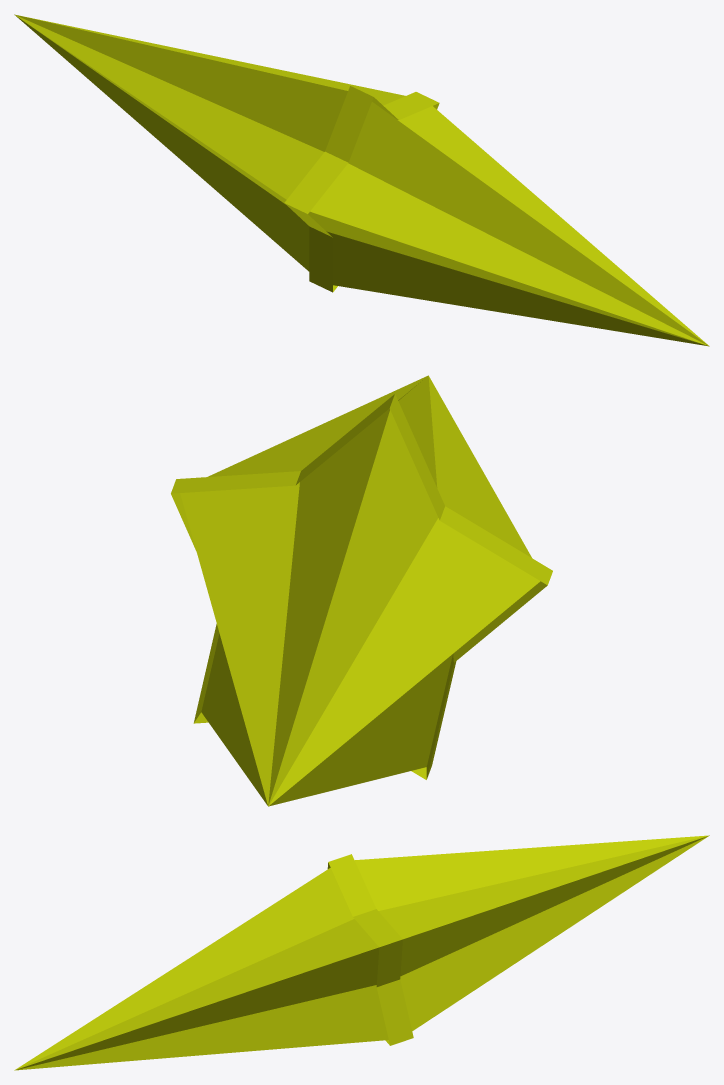
Rendered from stars2.obj.
3 renders of one model, top to bottom at view 1: azimuth 30°, elevation 25°; view 2: azimuth 150°, elevation 25°; view 3: azimuth 270°, elevation 25°, orthographic. The views are drawn at different scales.
Parts seen in each view (by area): view 1: Stars_Circle; view 2: Stars_Circle; view 3: Stars_Circle.
Part boxes in pixels (x1,y1,x2,y2): Stars_Circle: (14,14,709,346); Stars_Circle: (171,375,552,806); Stars_Circle: (14,835,709,1070).
Bounding box in the file's own units: 3.03 × 1.91 × 6.82.
